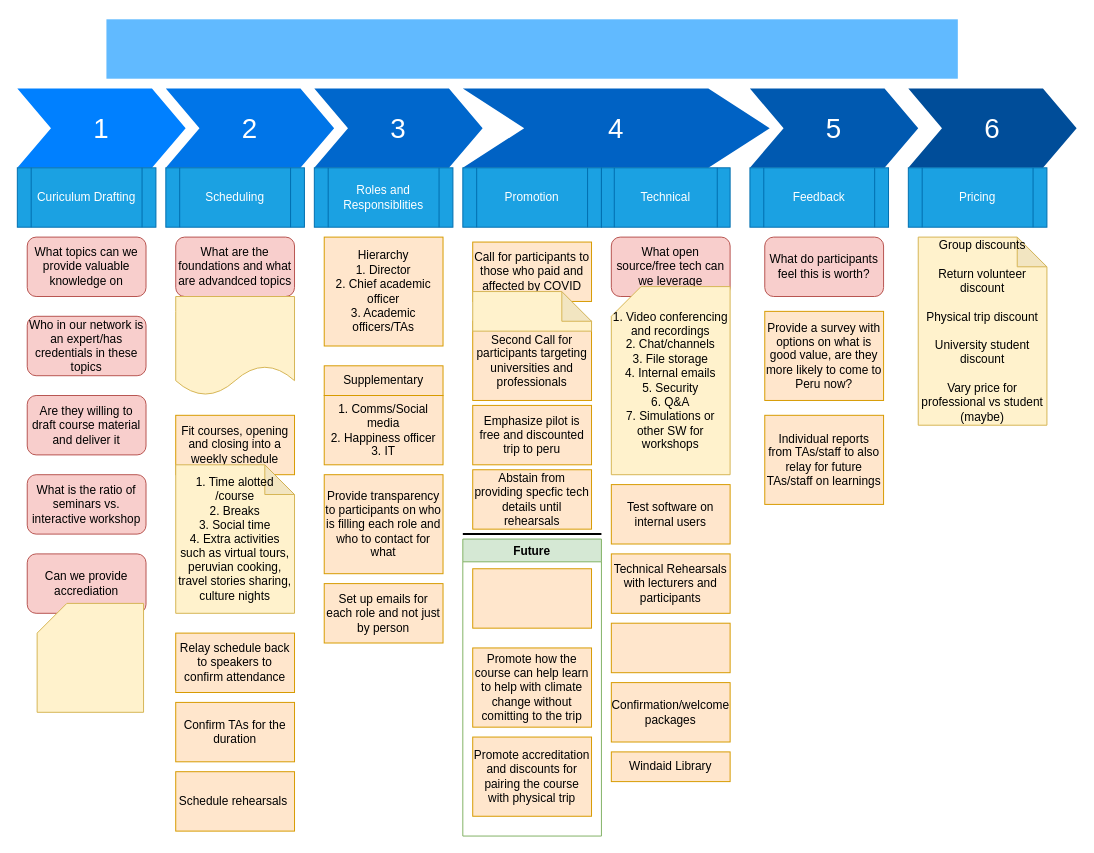
Some shapes in this 1094 by 853 pixel diagram are drawn without their labels. Here are the shapes that lost their labels. From the top down, the centre of each, then its label:
At (x=531, y=48): "Pilot 1 - No project".
At (x=532, y=311): "Max 25 (15 for pilot)".
At (x=235, y=346): "Essentially courses need to build off one another to compound knowledge".
At (x=532, y=598): "Promote speakers with their bios".
At (x=90, y=657): "Seek advice from existing university partners".
At (x=670, y=647): "Paywall for accepting low fee payments".
